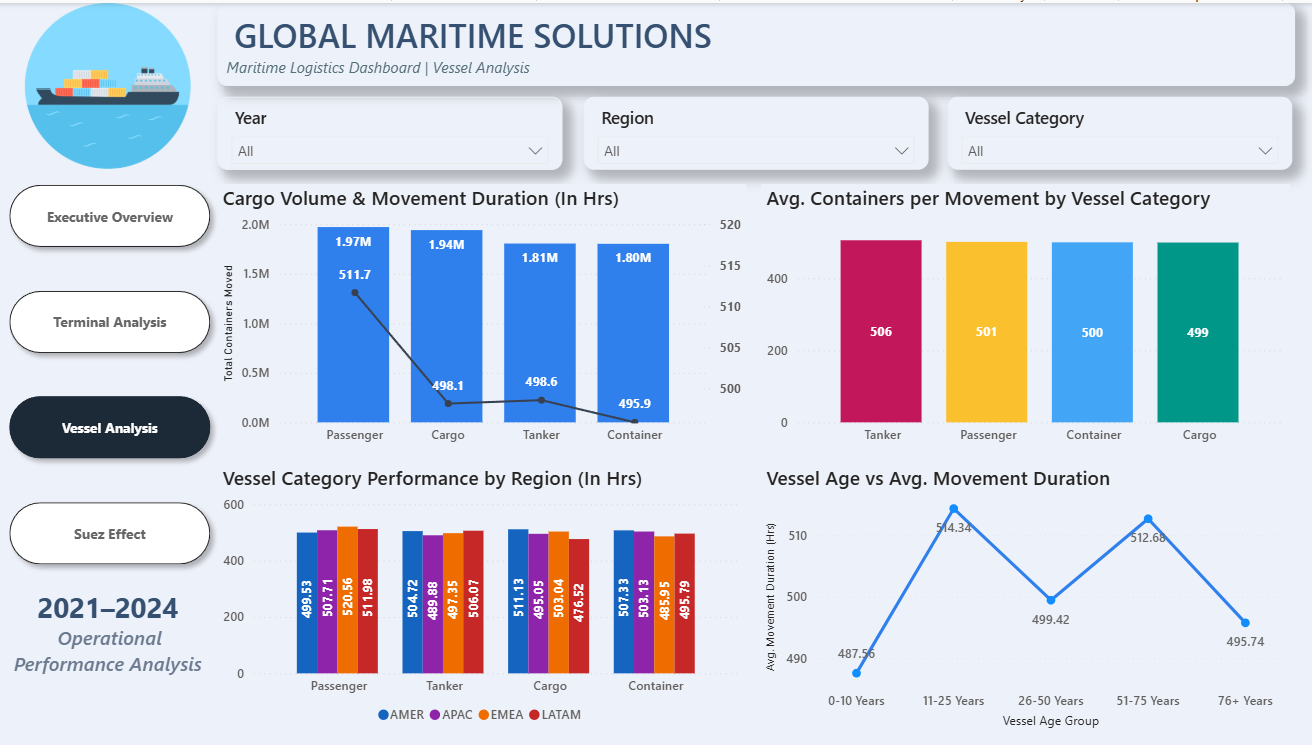

The dashboard page shown, as its layout file describes it:
{"tool":"powerbi","page":{"name":"Vessel Analysis","canvas":[1280,720],"ordinal":2},"visuals":[{"type":"textbox","box":[210,0,1040,80],"z":0},{"type":"slicer","fields":{"Values":["dim_vessel.vessel_category"]},"box":[915,90,333,70],"z":1000},{"type":"slicer","fields":{"Values":["dim_terminal.regional_hub"]},"box":[563,90,333,70],"z":2000},{"type":"slicer","fields":{"Values":["dim_time.fiscal_year"]},"box":[210,90,333,70],"z":3000},{"type":"clusteredColumnChart","title":"Avg. Containers per Movement by Vessel Category","fields":{"Y":["Measure.Avg.Containers per Movement"],"Category":["dim_vessel.vessel_category"]},"box":[735,175,510,260],"z":4000},{"type":"lineChart","title":"Vessel Age vs Avg. Movement Duration","fields":{"Y":["Measure.Avg.Movement Duration"],"Category":["fact_cargo_movements.Vessel Age Group"]},"box":[735,445,510,260],"z":5000},{"type":"lineStackedColumnComboChart","title":"Cargo Volume & Movement Duration (In Hrs)","fields":{"Category":["dim_vessel.vessel_category"],"Y2":["Measure.Avg.Movement Duration"],"Y":["Measure.Total Containers Moved"]},"box":[210,175,510,260],"z":6000},{"type":"clusteredColumnChart","title":"Vessel Category Performance by Region (In Hrs)","fields":{"Category":["dim_vessel.vessel_category"],"Y":["Measure.Avg.Movement Duration"],"Series":["dim_terminal.regional_hub"]},"box":[210,445,510,260],"z":7000},{"type":"group","id":"g1","title":"Group 1","box":[0,0,212,672],"z":8000},{"type":"pageNavigator","box":[0,167,212,385],"z":8000,"group":"g1"},{"type":"image","box":[0,0,208,160],"z":9000,"group":"g1"},{"type":"textbox","box":[0,560,208,112],"z":10000,"group":"g1"}]}

Visuals, with their boxes in screenshot pixels (x1, y1, x2, y2), scaled from the page's 1280x720 canvas onto the 1312x745 screenshot:
textbox: (left=215, top=0, right=1281, bottom=83)
slicer - dim_vessel.vessel_category: (left=938, top=93, right=1279, bottom=166)
slicer - dim_terminal.regional_hub: (left=577, top=93, right=918, bottom=166)
slicer - dim_time.fiscal_year: (left=215, top=93, right=557, bottom=166)
"Avg. Containers per Movement by Vessel Category" clusteredColumnChart: (left=753, top=181, right=1276, bottom=450)
"Vessel Age vs Avg. Movement Duration" lineChart: (left=753, top=460, right=1276, bottom=729)
"Cargo Volume & Movement Duration (In Hrs)" lineStackedColumnComboChart: (left=215, top=181, right=738, bottom=450)
"Vessel Category Performance by Region (In Hrs)" clusteredColumnChart: (left=215, top=460, right=738, bottom=729)
"Group 1" group: (left=0, top=0, right=217, bottom=695)
pageNavigator: (left=0, top=173, right=217, bottom=571)
image: (left=0, top=0, right=213, bottom=166)
textbox: (left=0, top=579, right=213, bottom=695)
